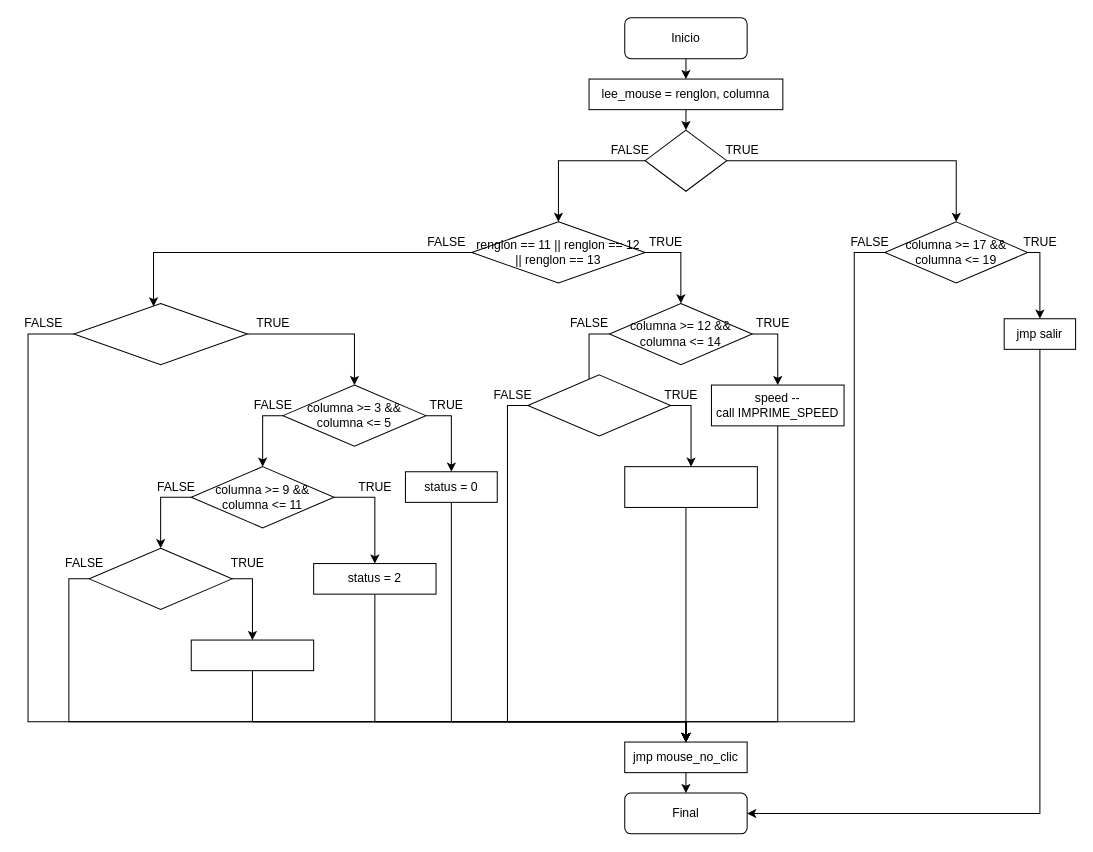
The diagram is 1093 pixels wide and 852 high, and some of its shapes have lost their labels. The box of each missing label's shape, as (x1, y1, x2, y2) in pixels:
columna >= 15 && columna <= 17: (88, 547, 232, 609)
columna >= 16 && columna <= 18: (527, 374, 671, 436)
renglon == 0: (644, 129, 727, 191)
renglon == 19 || renglon == 20 || renglon == 21: (73, 302, 247, 365)
speed ++ call IMPRIME_SPEED: (624, 466, 757, 507)
status = 1: (190, 639, 314, 671)
